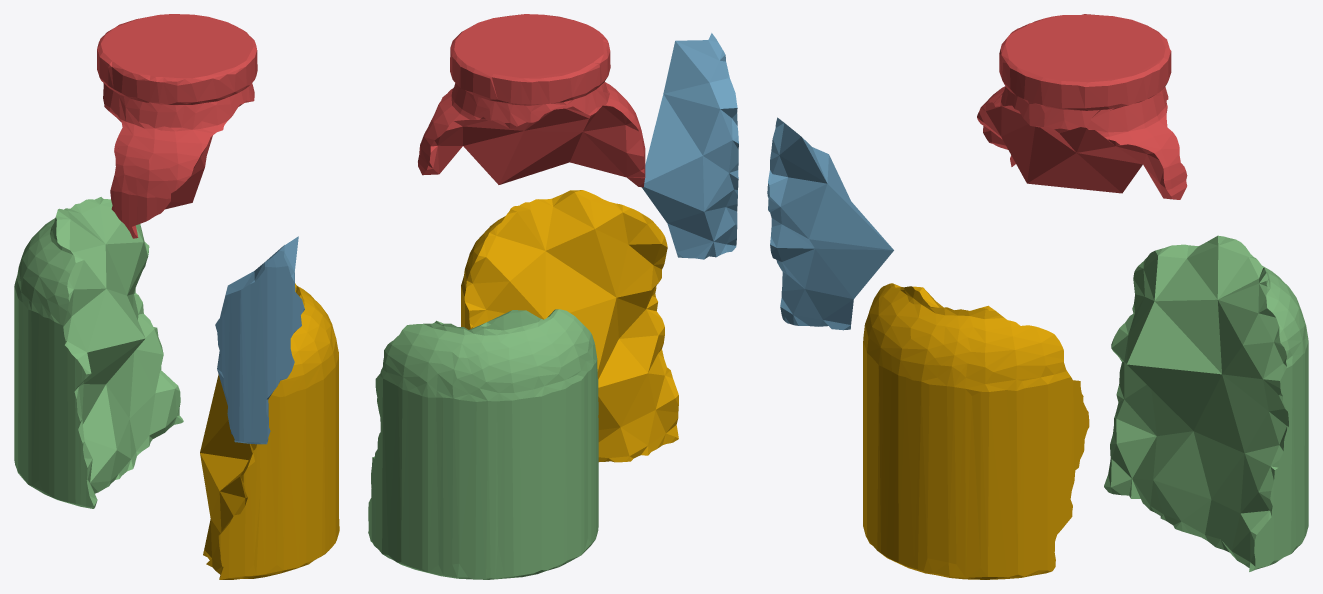
File: mode_3_4pcs_transformed.glb
The picture shows the model from 3 angles, left to right: view 1: azimuth 30°, elevation 25°; view 2: azimuth 150°, elevation 25°; view 3: azimuth 270°, elevation 25°; orthographic projection. The views are drawn at different scales.
Parts seen in each view (by area): view 1: piece_3.obj, piece_0.obj, piece_1.obj, piece_2.obj; view 2: piece_3.obj, piece_0.obj, piece_1.obj, piece_2.obj; view 3: piece_0.obj, piece_3.obj, piece_1.obj, piece_2.obj.
Part boxes in pixels (x1,y1,x2,y2): piece_3.obj: (14, 197, 183, 508); piece_0.obj: (200, 283, 339, 579); piece_1.obj: (97, 14, 257, 238); piece_2.obj: (215, 236, 304, 444); piece_3.obj: (368, 309, 598, 579); piece_0.obj: (461, 190, 678, 462); piece_1.obj: (418, 14, 645, 187); piece_2.obj: (642, 33, 738, 259); piece_0.obj: (863, 283, 1089, 579); piece_3.obj: (1104, 235, 1308, 571); piece_1.obj: (977, 14, 1187, 199); piece_2.obj: (767, 117, 893, 330).
Size of the model in its own units: 0.7401 by 1.6 by 1.63.
